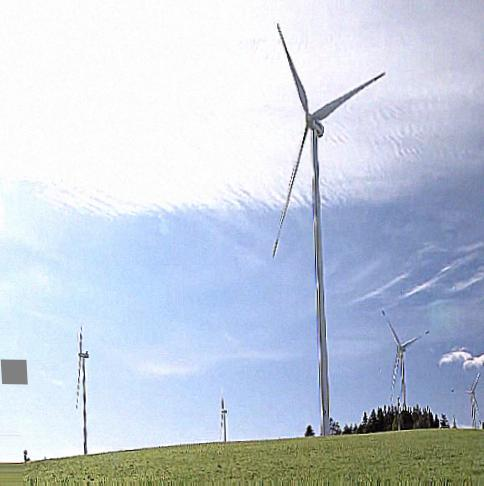wind turbine: (271, 21, 388, 435), (381, 308, 431, 435), (74, 325, 92, 456)
